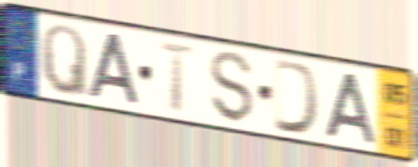A: (322, 70, 379, 147), (86, 30, 142, 108)
D: (271, 55, 324, 139)
Q: (38, 22, 92, 103)
S: (208, 48, 256, 127)
T: (156, 38, 199, 117)
